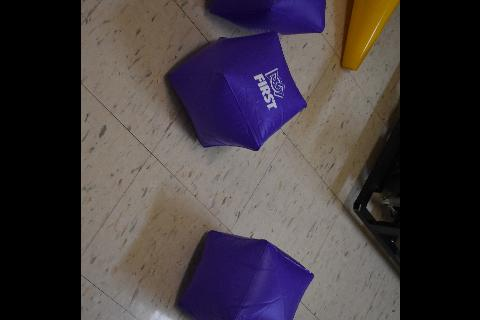cone: (340, 0, 399, 70)
cube: (168, 31, 306, 151), (177, 230, 313, 320), (208, 0, 336, 34)
